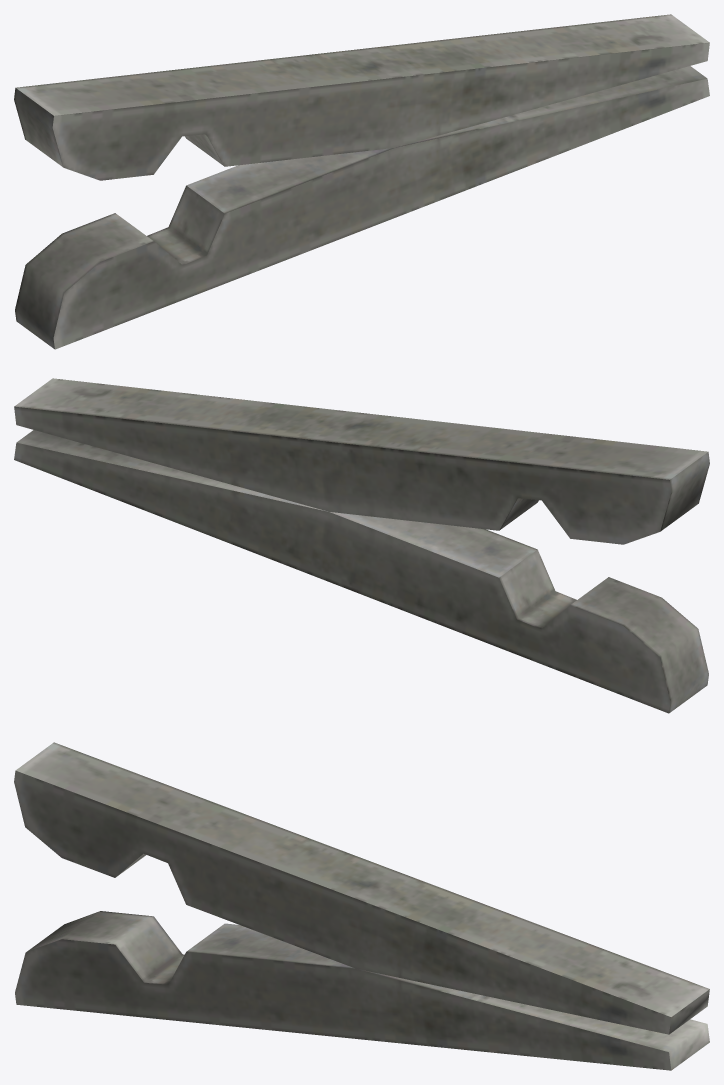
Rendered from clothes_peg.dae.
3 renders of one model, top to bottom at view 1: azimuth 30°, elevation 25°; view 2: azimuth 150°, elevation 25°; view 3: azimuth 330°, elevation 25°, orthographic.
Parts seen in each view (by area): view 1: Mesh; view 2: Mesh; view 3: Mesh.
Part boxes in pixels (x1,y1,x2,y2): Mesh: [14, 14, 709, 349]; Mesh: [14, 378, 709, 713]; Mesh: [14, 742, 709, 1070].
Bounding box in the file's own units: 0.1353 × 0.046 × 0.0138.
